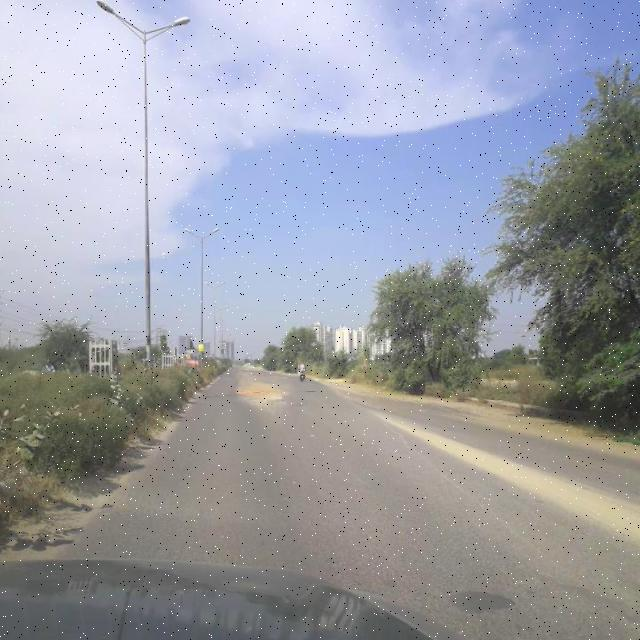D00: (388, 427, 590, 585)
D40: (234, 378, 292, 409)
